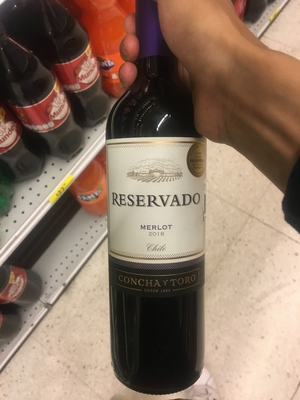reservado merlot: (100, 4, 235, 389)
